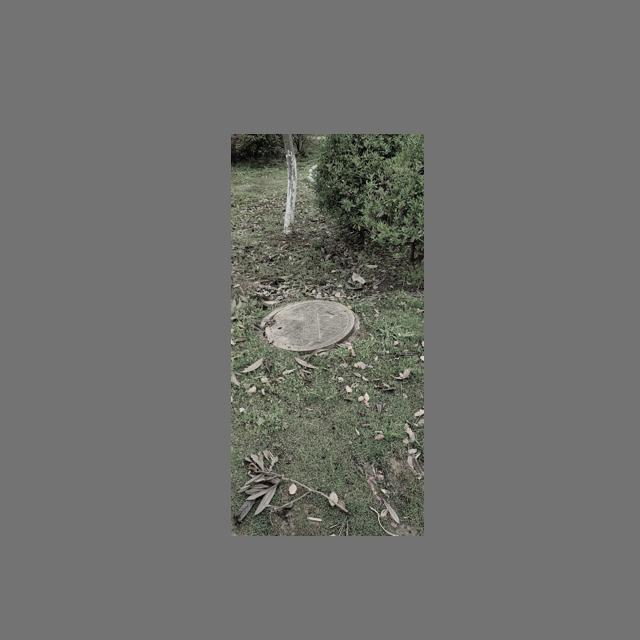uncovered: (258, 301, 360, 353)
